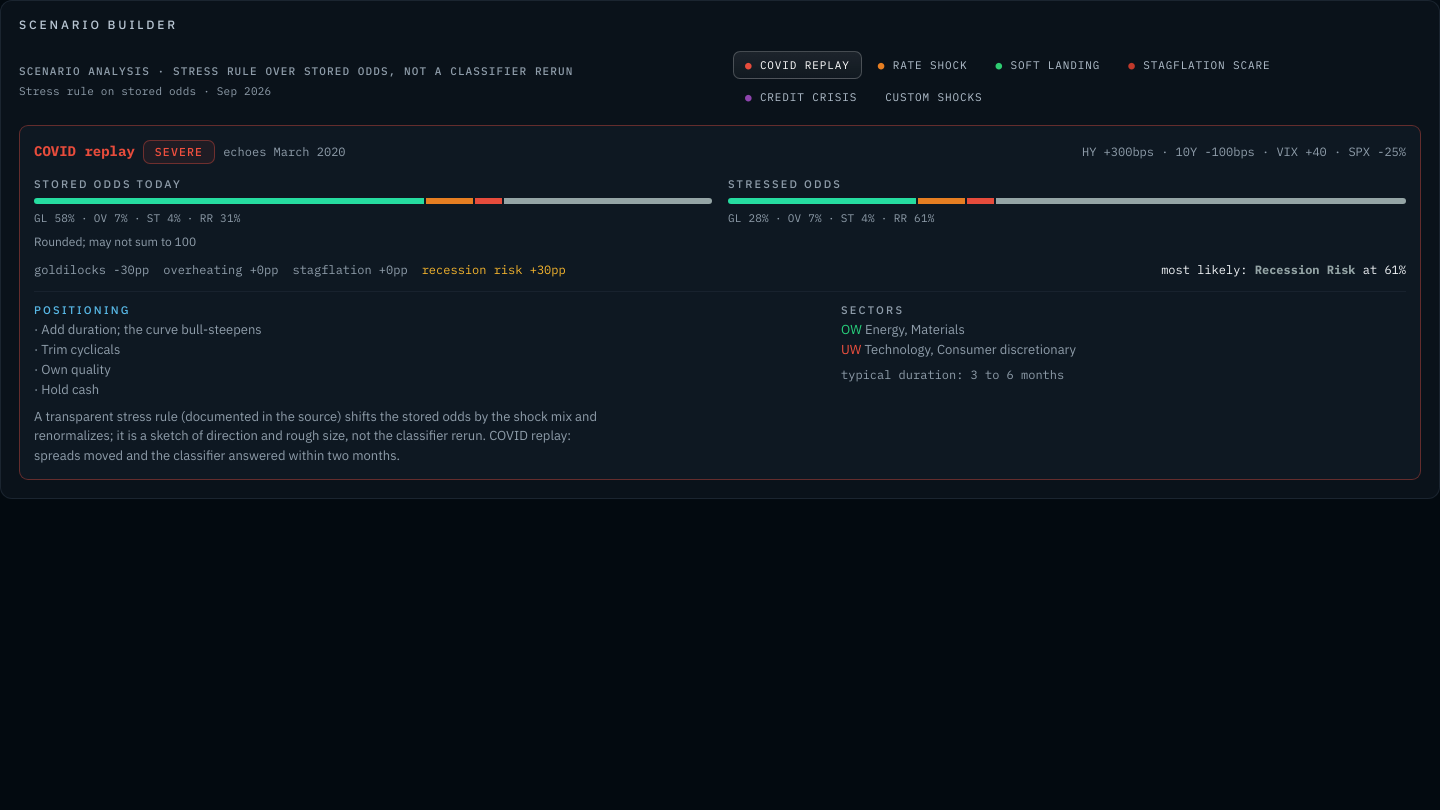
ScenariosTab (checklist 04 B.8) › Custom shocks shows four sliders with data-changed false and the result stays while the zero-shock run scores
Check: the text "stressed odds" is shown, box x1=728 y1=177 x2=842 y2=191
What coordinates should you click on to do the following:
click the button "Custom shocks"
I would click on:
 (934, 97)
Its box is x1=873 y1=83 x2=994 y2=111.
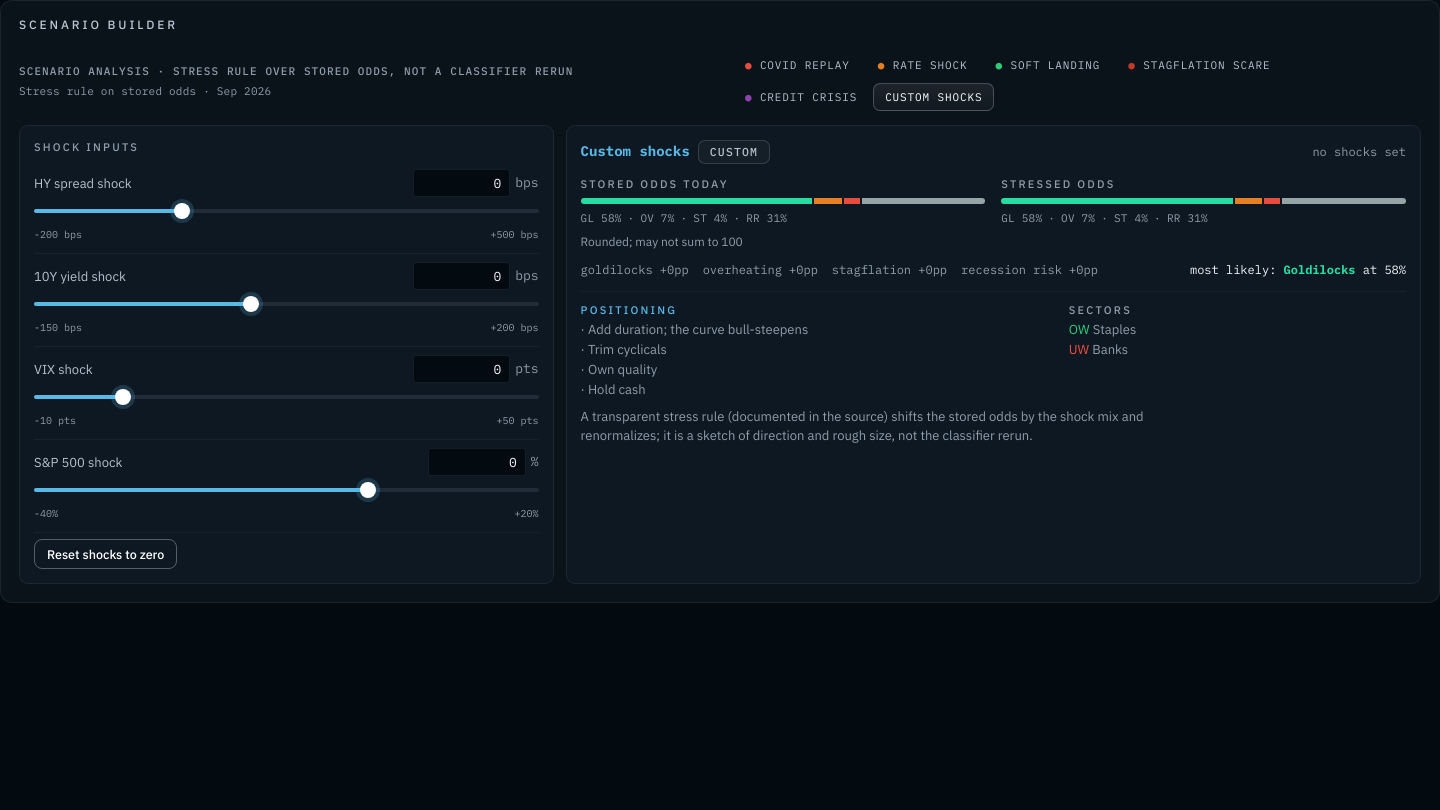
Check: the heading "Shock inputs" is shown, box x1=34 y1=140 x2=139 y2=154
Check: the slider labelled "HY spread shock" is shown, box x1=34 y1=197 x2=539 y2=225
Check: the slider labelled "10Y yield shock" is shown, box x1=34 y1=290 x2=539 y2=318
